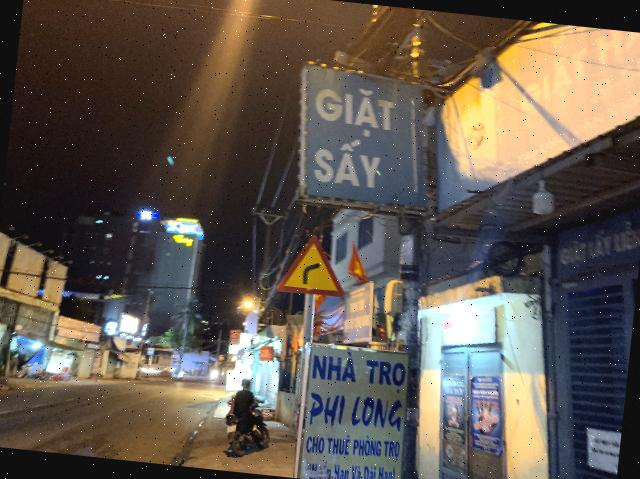cho-ngoat-nguy-hiem-ben-phai: (276, 231, 351, 298)
